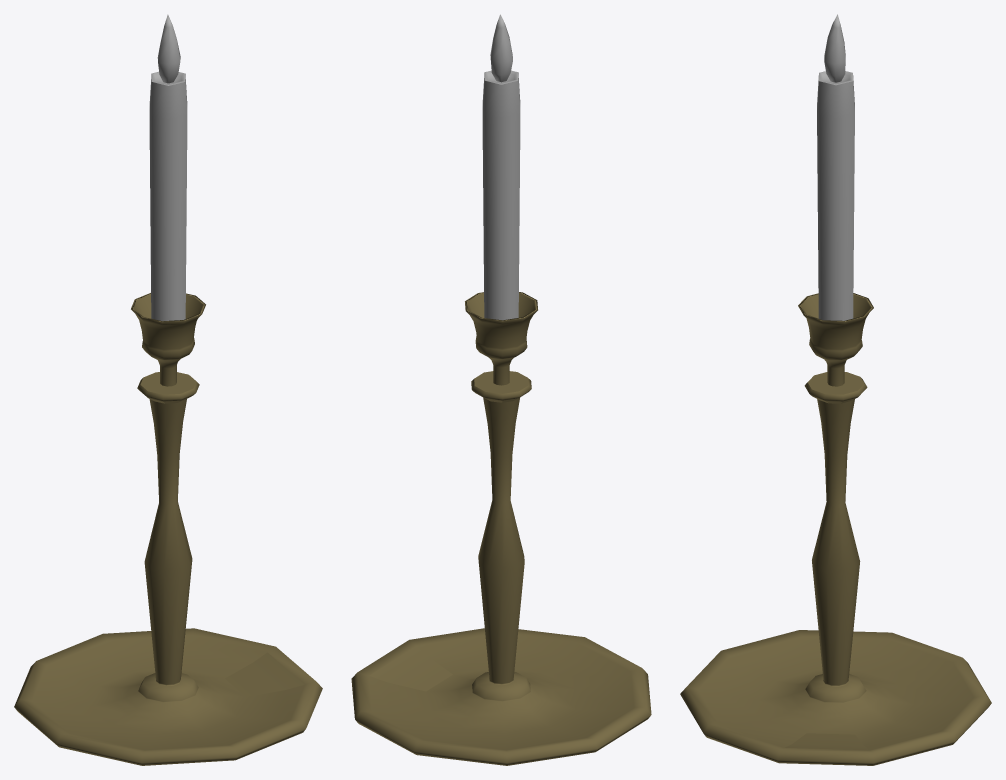
The model's file is BgMD_candle_candlestand.fbx.
3 renders of one model, left to right at view 1: azimuth 30°, elevation 25°; view 2: azimuth 150°, elevation 25°; view 3: azimuth 270°, elevation 25°, orthographic.
Visible parts, largest first — view 1: Bg_candlestand, Bg_candle_0202; view 2: Bg_candlestand, Bg_candle_0202; view 3: Bg_candlestand, Bg_candle_0202.
Part boxes in pixels (box(x1,y1,x2,y2)): Bg_candlestand: box(14, 293, 322, 765); Bg_candle_0202: box(149, 14, 187, 321); Bg_candlestand: box(351, 292, 651, 765); Bg_candle_0202: box(482, 14, 520, 320); Bg_candlestand: box(680, 293, 991, 765); Bg_candle_0202: box(817, 14, 854, 320).
Size of the model in its own units: 52.46 by 132 by 53.96.
